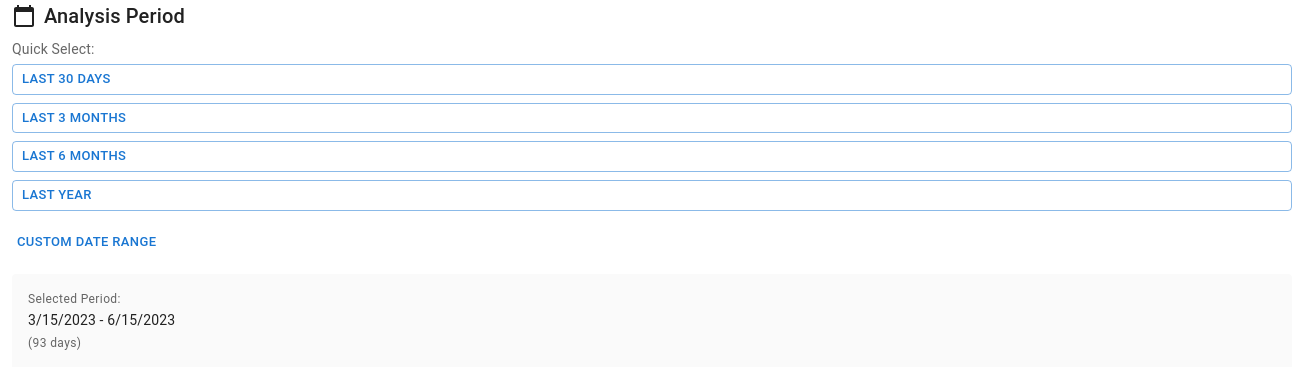
Test: DateRangePicker › switches to custom mode when custom date range is clicked
Click the button "Custom Date Range": (87, 242) x1=12 y1=227 x2=161 y2=258
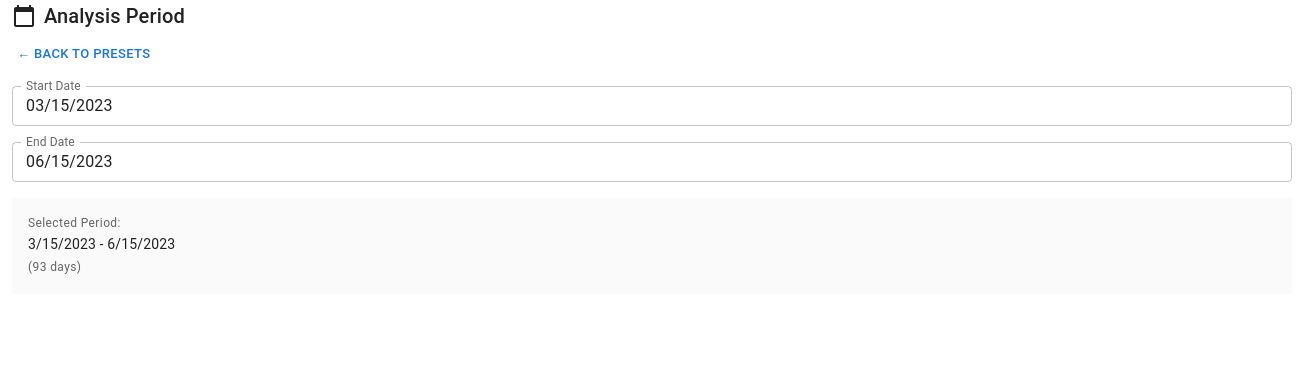
expect the button "← Back to Presets" is shown: met, box x1=12 y1=39 x2=156 y2=70
expect the field labelled "Start Date" is shown: met, box x1=12 y1=86 x2=1292 y2=126
expect the field labelled "End Date" is shown: met, box x1=12 y1=142 x2=1292 y2=182
